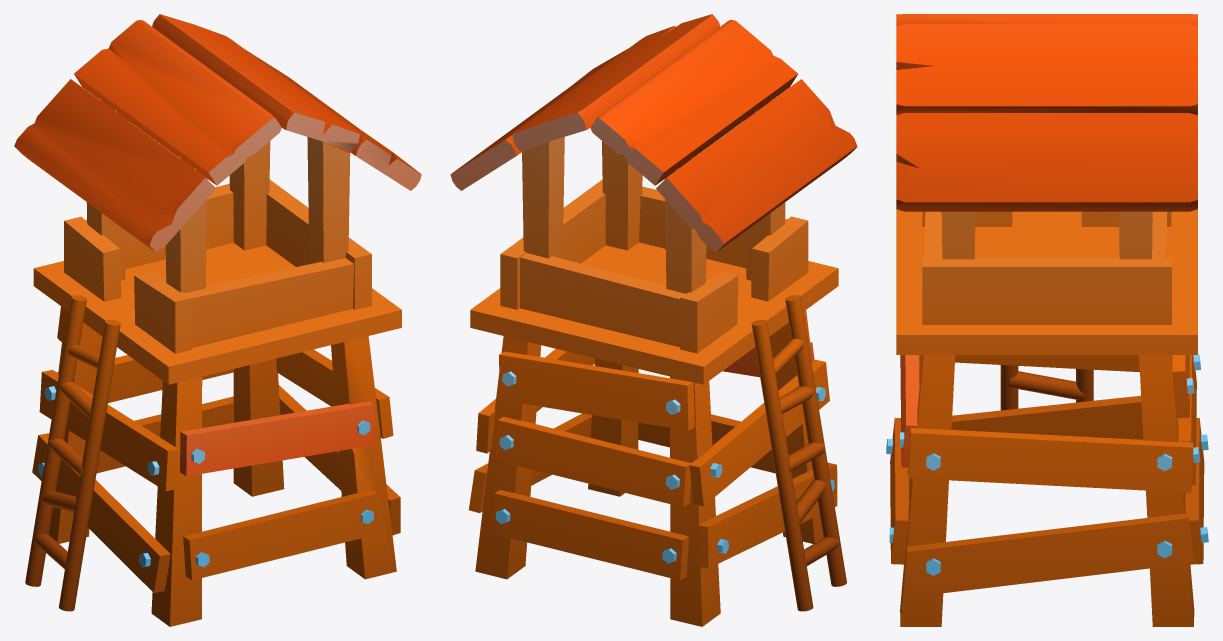
The model's file is Prop_Wooden_Watch_Tower_01.fbx.
3 renders of one model, left to right at view 1: azimuth 30°, elevation 25°; view 2: azimuth 150°, elevation 25°; view 3: azimuth 270°, elevation 25°, orthographic. The views are drawn at different scales.
Parts seen in each view (by area): view 1: Prop_Wooden_Watch_Tower_01; view 2: Prop_Wooden_Watch_Tower_01; view 3: Prop_Wooden_Watch_Tower_01.
Boxes of the visible parts, x1=… form: Prop_Wooden_Watch_Tower_01: x1=14, y1=14, x2=421, y2=626; Prop_Wooden_Watch_Tower_01: x1=450, y1=14, x2=857, y2=626; Prop_Wooden_Watch_Tower_01: x1=886, y1=14, x2=1208, y2=626.
Size of the model in its own units: 268 by 403 by 214.
